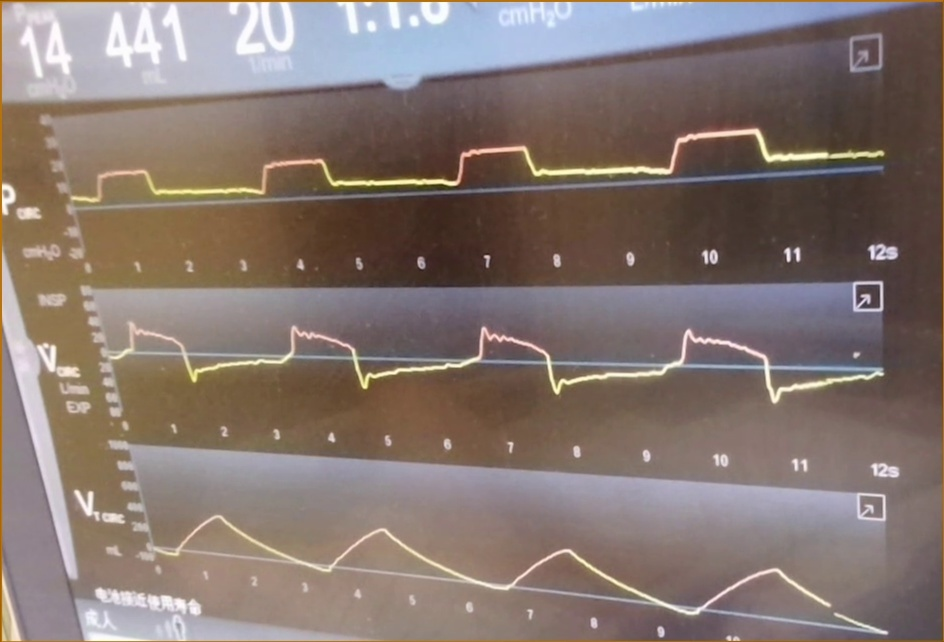Accumulation Flow: (108, 297, 881, 426)
Volume: (154, 500, 886, 630)
